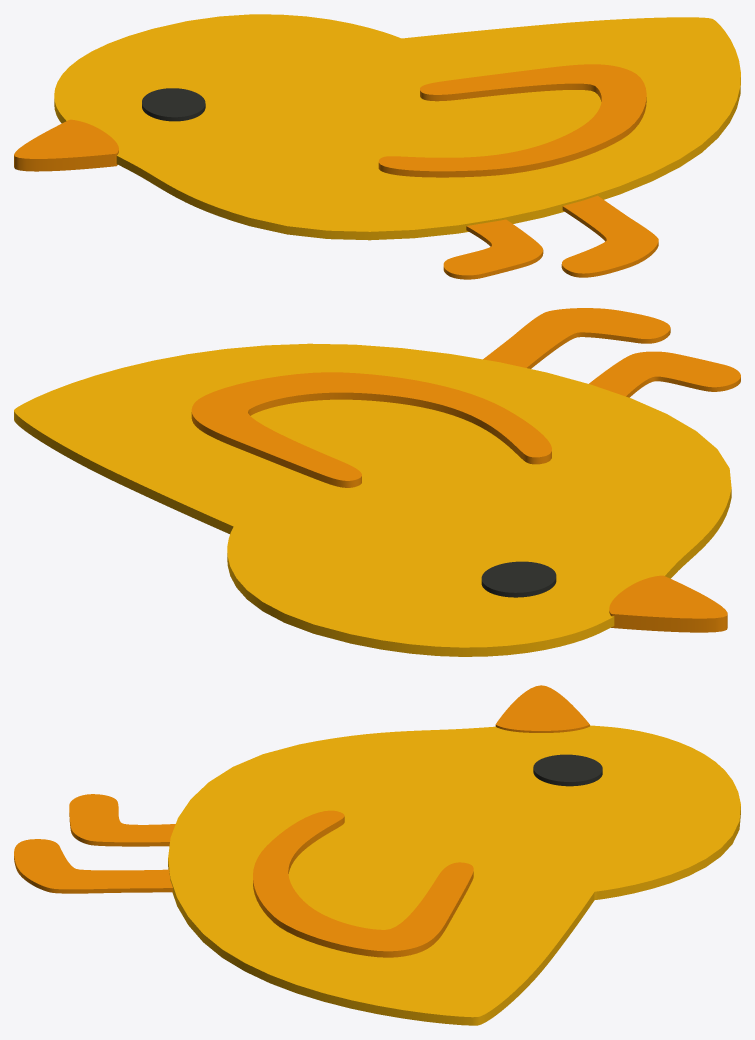
The model's file is emoji_u1f424.glb.
The picture shows the model from 3 angles, top to bottom: view 1: azimuth 30°, elevation 25°; view 2: azimuth 150°, elevation 25°; view 3: azimuth 270°, elevation 25°; orthographic projection. The views are drawn at different scales.
Parts seen in each view (by area): view 1: emoji_u1f424; view 2: emoji_u1f424; view 3: emoji_u1f424.
Part boxes in pixels (<box>): emoji_u1f424: <box>14,14,740,279</box>; emoji_u1f424: <box>14,308,740,656</box>; emoji_u1f424: <box>14,685,740,1025</box>.
Size of the model in its own units: 0.0334 by 0.001 by 0.0311.
